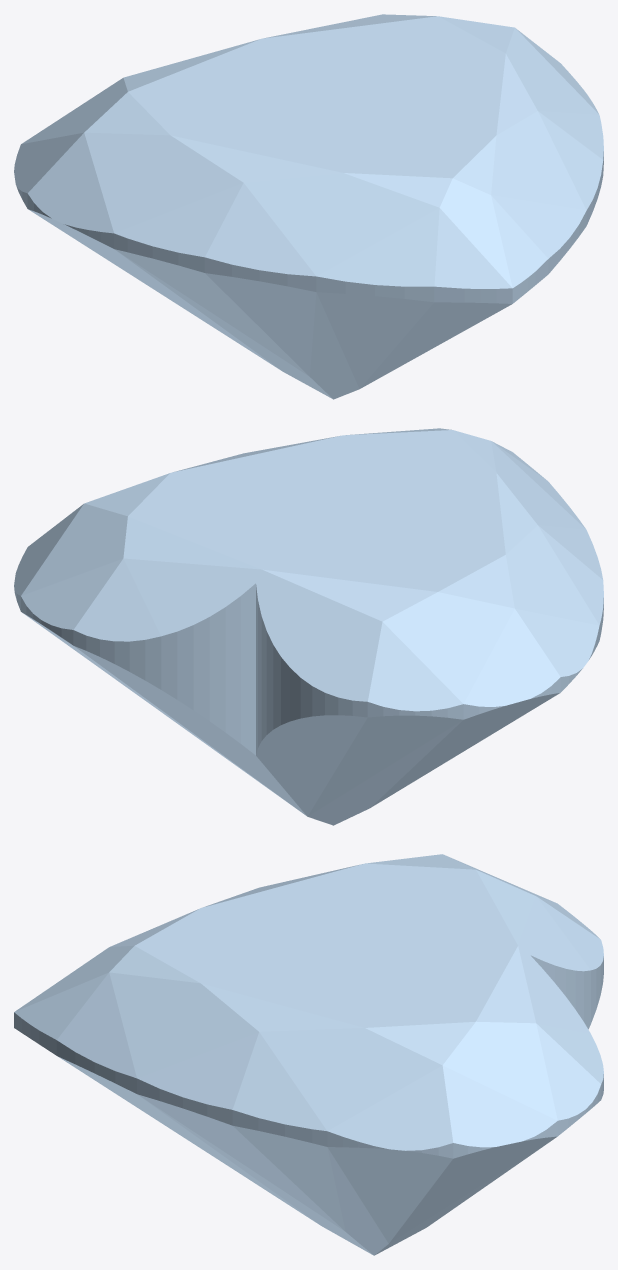
Rendered from herz-blau-light.glb.
The picture shows the model from 3 angles, top to bottom: view 1: azimuth 30°, elevation 25°; view 2: azimuth 150°, elevation 25°; view 3: azimuth 270°, elevation 25°; orthographic projection.
Visible parts, largest first — view 1: Heart; view 2: Heart; view 3: Heart.
Boxes of the visible parts, <box> form: Heart: <box>14,14,603,399</box>; Heart: <box>14,428,603,825</box>; Heart: <box>14,854,603,1255</box>.
Bounding box in the file's own units: 0.03 × 0.0165 × 0.0285.
